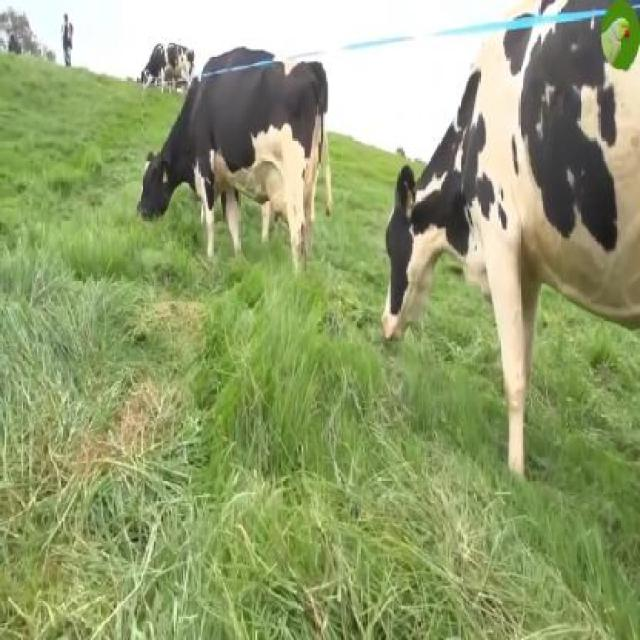Cow: (138, 41, 328, 257), (138, 34, 197, 94)
